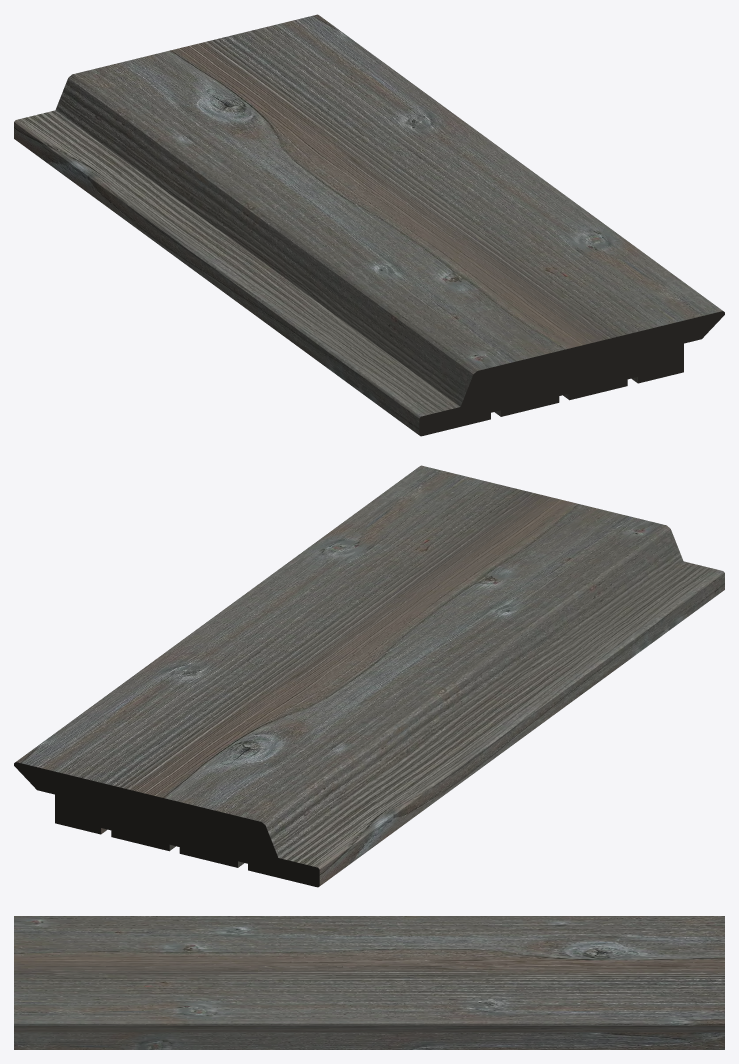
File: spruce-facade-half-tenon-45-silver.glb
The picture shows the model from 3 angles, top to bottom: view 1: azimuth 30°, elevation 25°; view 2: azimuth 150°, elevation 25°; view 3: azimuth 270°, elevation 25°; orthographic projection. The views are drawn at different scales.
Visible parts, largest first — view 1: Pusė_Špunto_45; view 2: Pusė_Špunto_45; view 3: Pusė_Špunto_45.
Boxes of the visible parts, x1,y1,x2,y2 form: Pusė_Špunto_45: (14,14,724,436); Pusė_Špunto_45: (14,465,724,887); Pusė_Špunto_45: (14,916,724,1049).
Bounding box in the file's own units: 0.0723 × 0.0117 × 0.166.
Materials: 3 (1 with a texture image).
